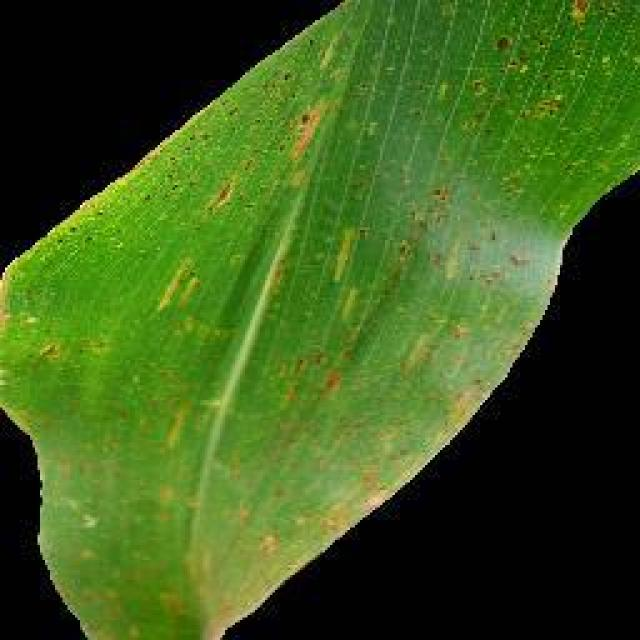Corn Common Rust: (165, 30, 573, 473)
